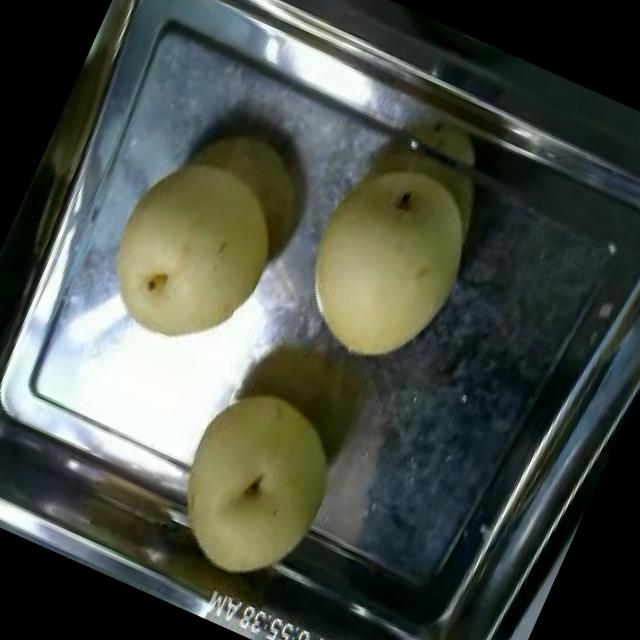Fruit: (74, 88, 332, 384), (262, 124, 508, 393), (143, 362, 365, 608)
